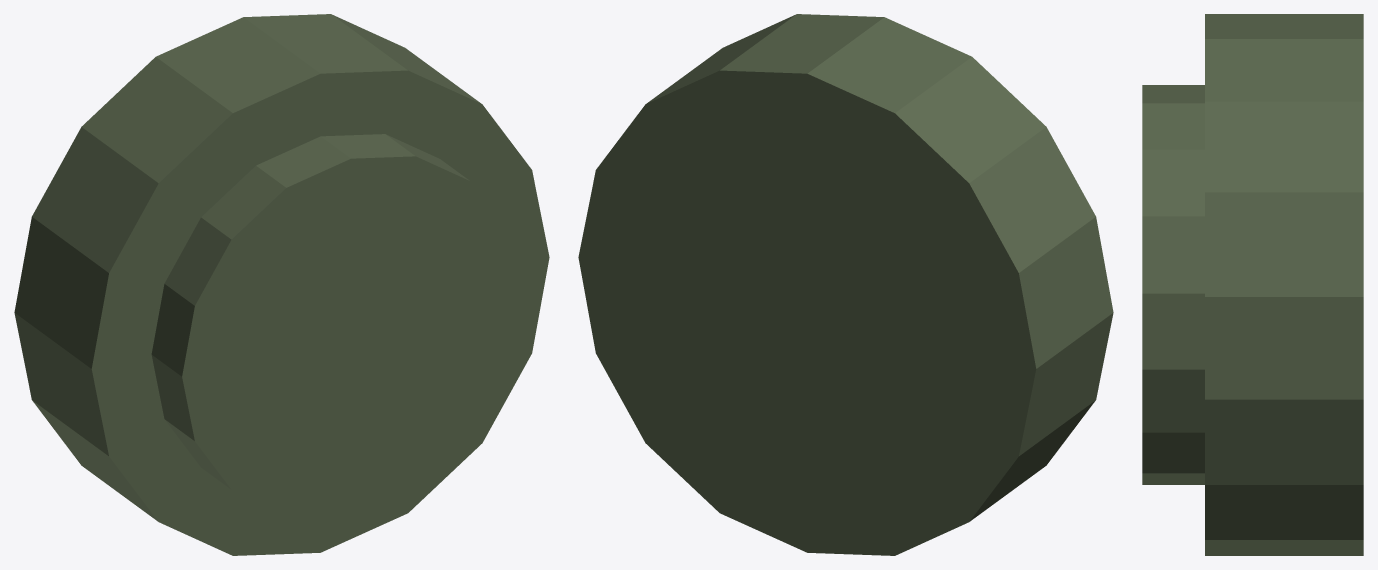
The model's file is SM_RivWaterBasin.obj.
3 renders of one model, left to right at view 1: azimuth 30°, elevation 25°; view 2: azimuth 150°, elevation 25°; view 3: azimuth 270°, elevation 25°, orthographic. The views are drawn at different scales.
Visible parts, largest first — view 1: SM_RivWaterBasin; view 2: SM_RivWaterBasin; view 3: SM_RivWaterBasin.
Boxes of the visible parts, left/top/right/bottom form: SM_RivWaterBasin: left=14, top=14, right=549, bottom=555; SM_RivWaterBasin: left=578, top=14, right=1113, bottom=555; SM_RivWaterBasin: left=1142, top=14, right=1363, bottom=555.
Bounding box in the file's own units: 130 × 130 × 53.
